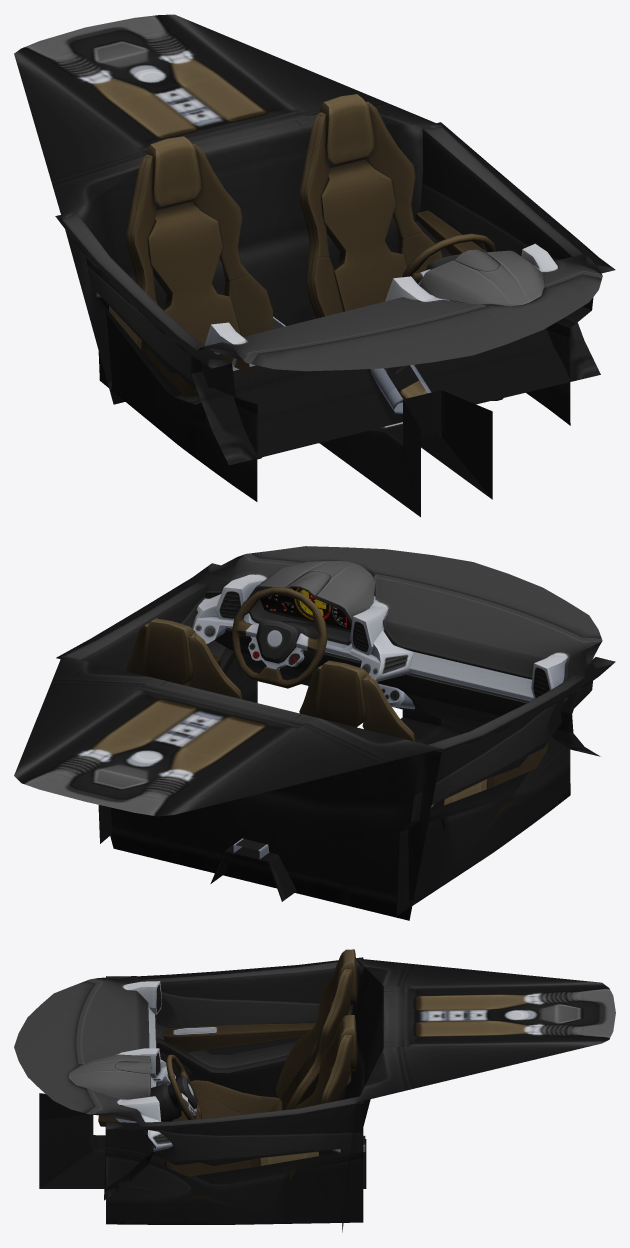
The model's file is Car_09_Interior_G.FBX.
3 views of the same model, one above another, from view 1: azimuth 30°, elevation 25°; view 2: azimuth 150°, elevation 25°; view 3: azimuth 270°, elevation 25° (orthographic). The views are drawn at different scales.
Parts seen in each view (by area): view 1: Car_09_Interior_G; view 2: Car_09_Interior_G; view 3: Car_09_Interior_G.
Part boxes in pixels (x1=…): Car_09_Interior_G: x1=14, y1=14, x2=615, y2=517; Car_09_Interior_G: x1=14, y1=546, x2=615, y2=920; Car_09_Interior_G: x1=14, y1=949, x2=615, y2=1232.
Size of the model in its own units: 1.61 by 2.65 by 0.9253.
